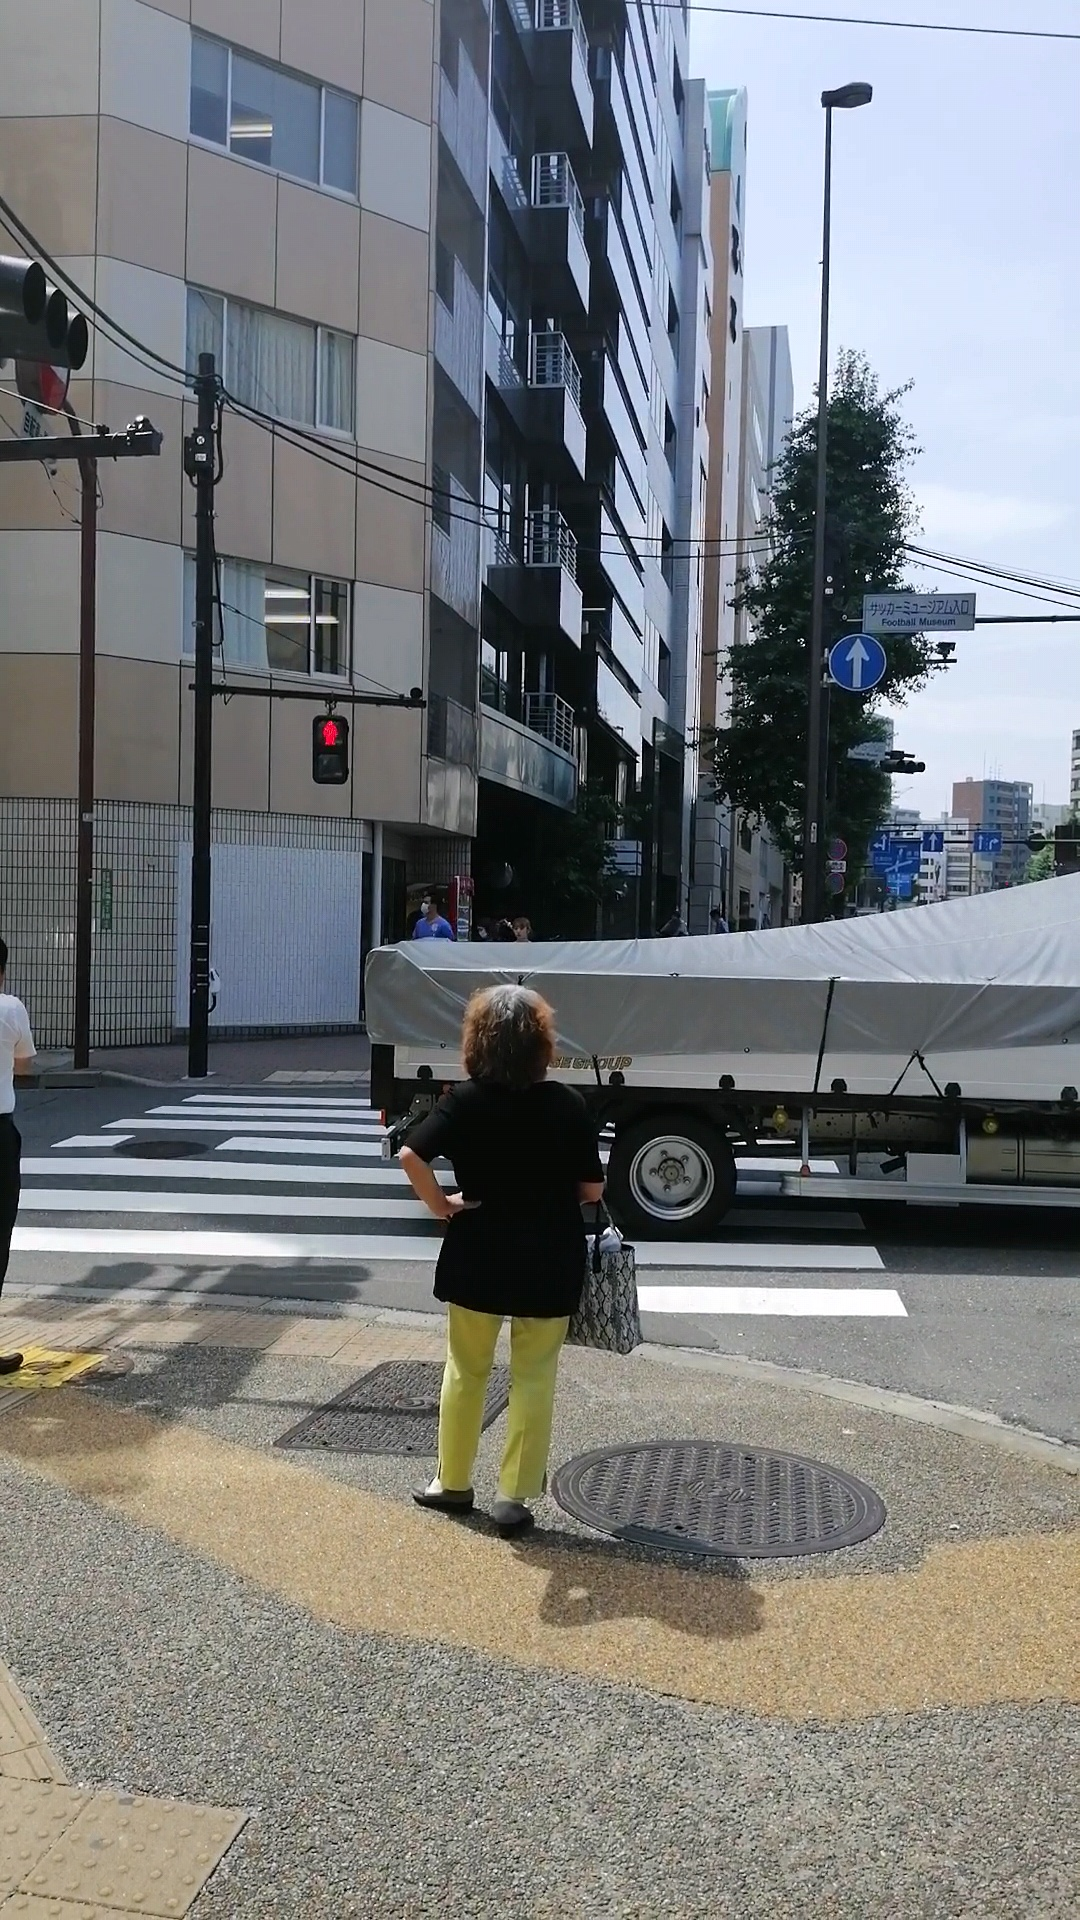red: (311, 713, 349, 785)
